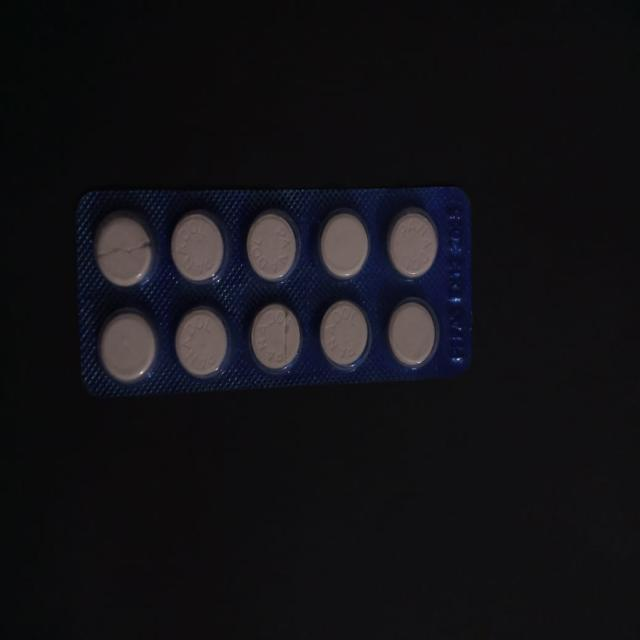defect: (91, 207, 160, 288), (247, 301, 306, 375)
